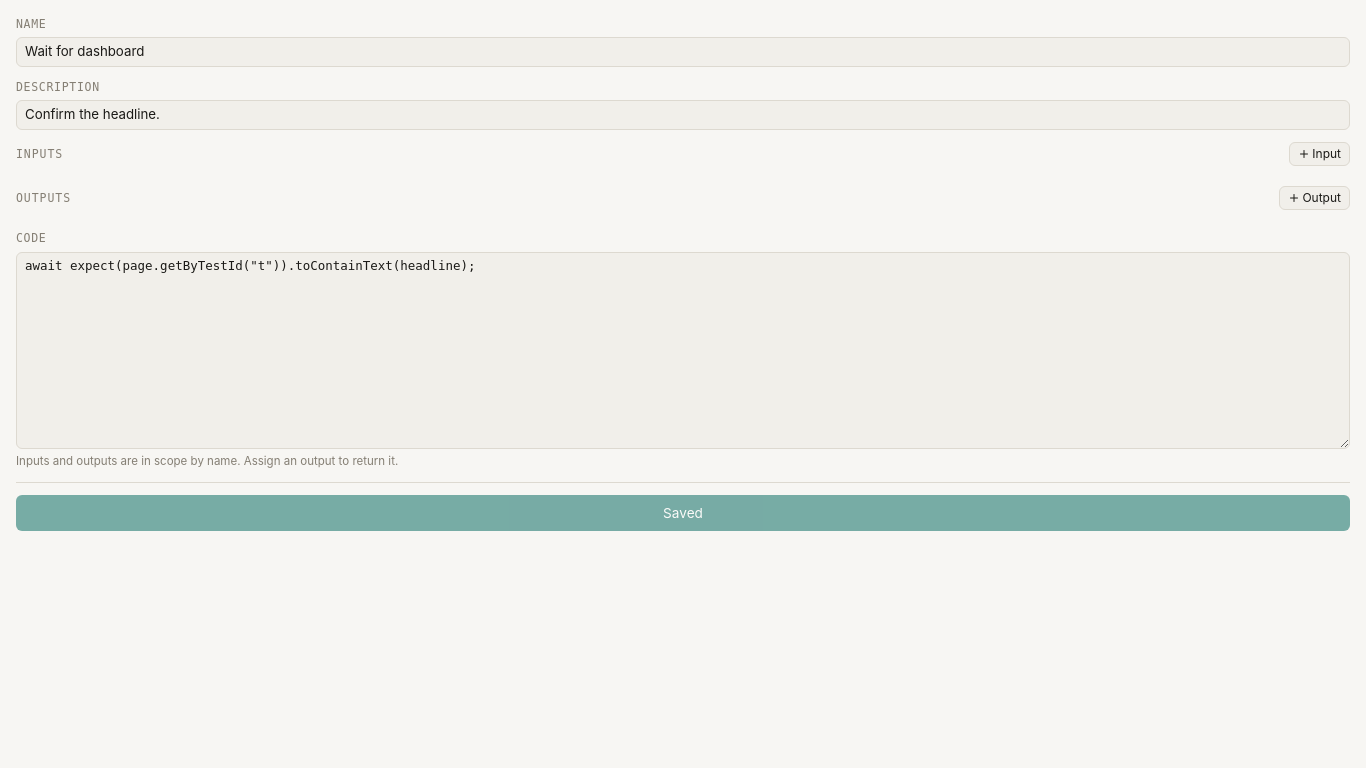
Test: editing › adds a typed input
Click the button "Input". click: (1320, 154)
box: [1289,142,1350,166]
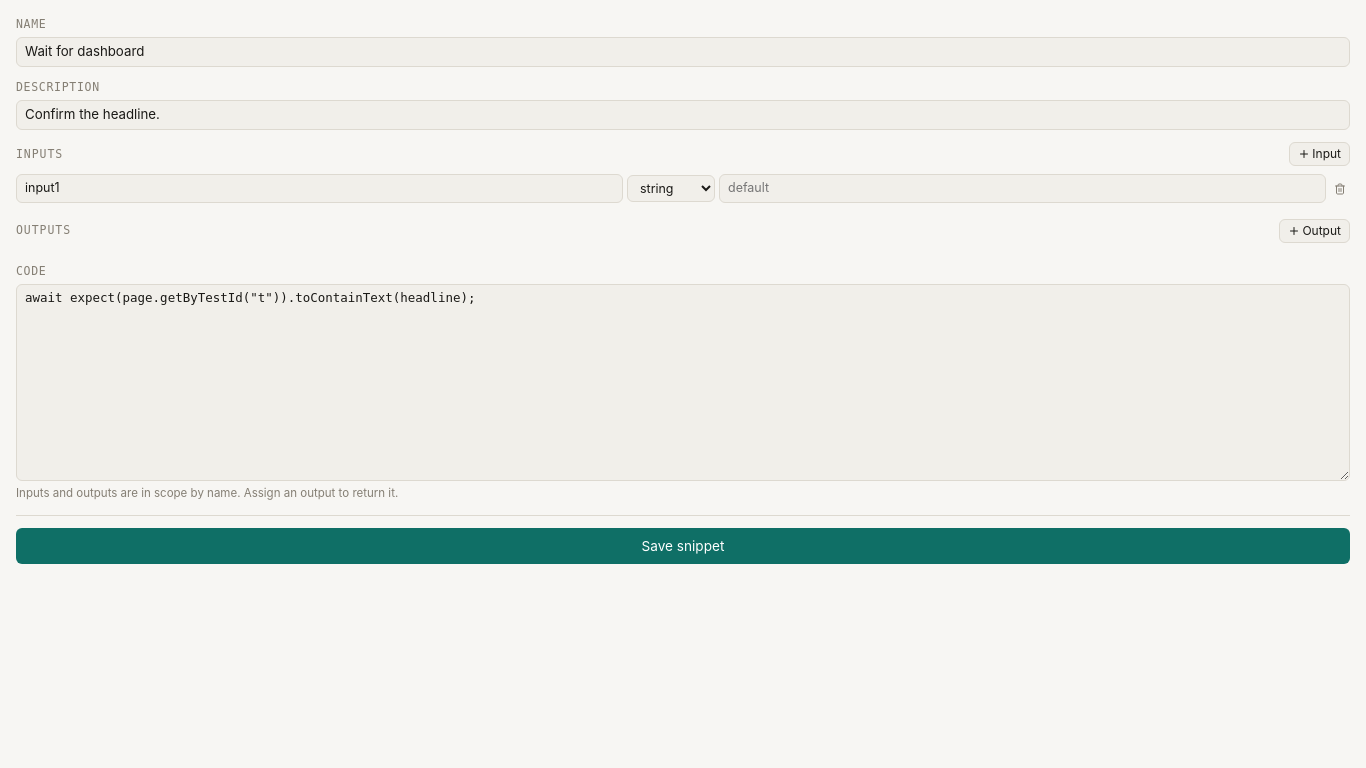
Expected: the field named "Input 1 name" is shown, [16,174,623,203]
Expected: the dropdown named "Input 1 type" shows "string", [627,175,715,202]
